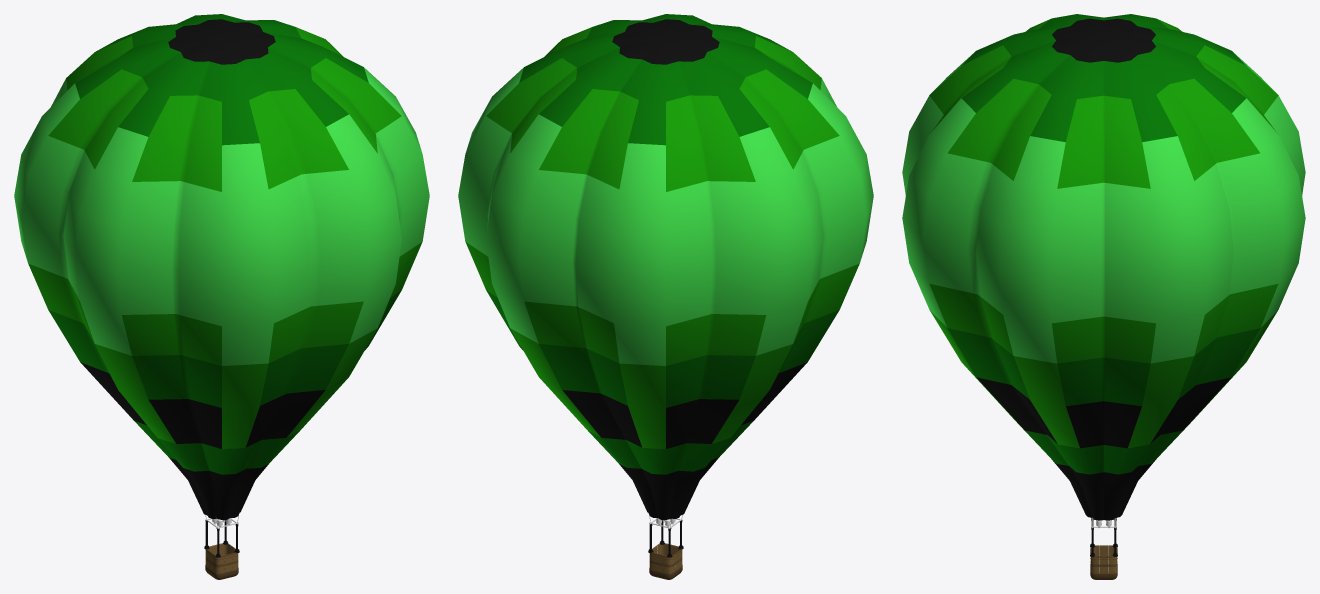
Rendered from green.glb.
3 views of the same model, side by side, from view 1: azimuth 30°, elevation 25°; view 2: azimuth 150°, elevation 25°; view 3: azimuth 270°, elevation 25° (orthographic).
Parts seen in each view (by area): view 1: Sphere, Circle; view 2: Sphere, Circle; view 3: Sphere, Circle.
Part boxes in pixels (box(x1,y1,x2,y2)): Sphere: box(14, 14, 429, 519); Circle: box(204, 515, 239, 579); Sphere: box(458, 14, 873, 519); Circle: box(648, 515, 683, 579); Sphere: box(902, 14, 1305, 520); Circle: box(1090, 517, 1117, 579).
Size of the model in its own units: 22.42 by 33.16 by 22.42.
